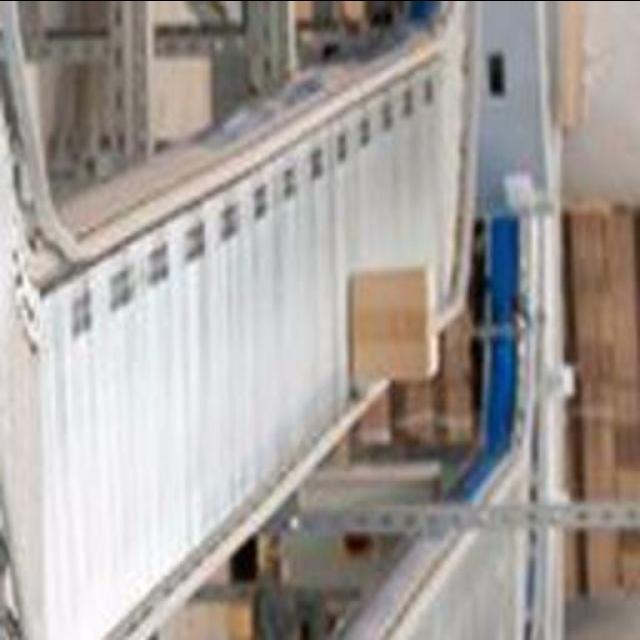conveyor: (22, 0, 476, 640)
